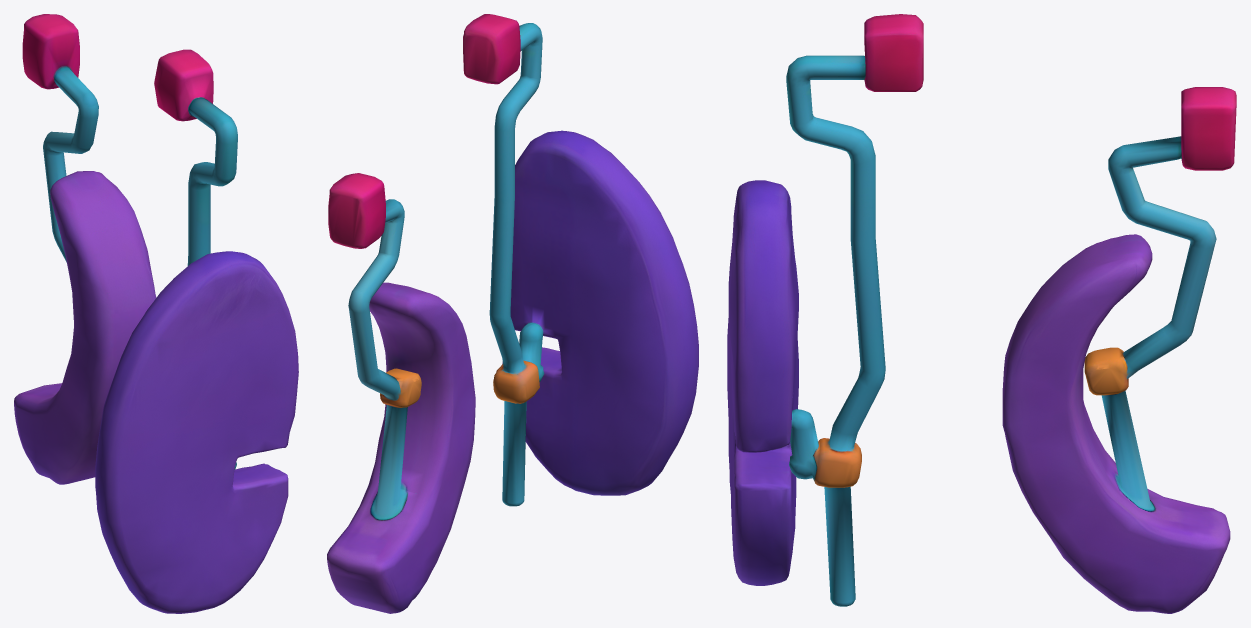
3 renders of one model, left to right at view 1: azimuth 30°, elevation 25°; view 2: azimuth 150°, elevation 25°; view 3: azimuth 270°, elevation 25°, orthographic. The views are drawn at different scales.
Visible parts, largest first — view 1: tripo_node_f79096bf-a12c-4a42-8275-35b89aaeb131; view 2: tripo_node_f79096bf-a12c-4a42-8275-35b89aaeb131; view 3: tripo_node_f79096bf-a12c-4a42-8275-35b89aaeb131.
Part boxes in pixels (x1,y1,x2,y2): tripo_node_f79096bf-a12c-4a42-8275-35b89aaeb131: [14, 14, 298, 613]; tripo_node_f79096bf-a12c-4a42-8275-35b89aaeb131: [327, 14, 698, 613]; tripo_node_f79096bf-a12c-4a42-8275-35b89aaeb131: [727, 14, 1236, 613].
Bounding box in the file's own units: 0.407 × 0.998 × 0.7926.
Materials: 1 (1 with a texture image).
